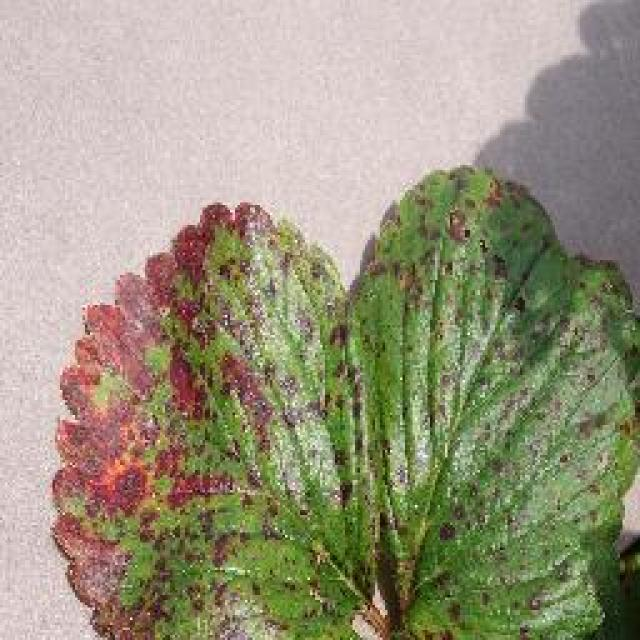Strawberry leaf scorch: (64, 227, 284, 633)
